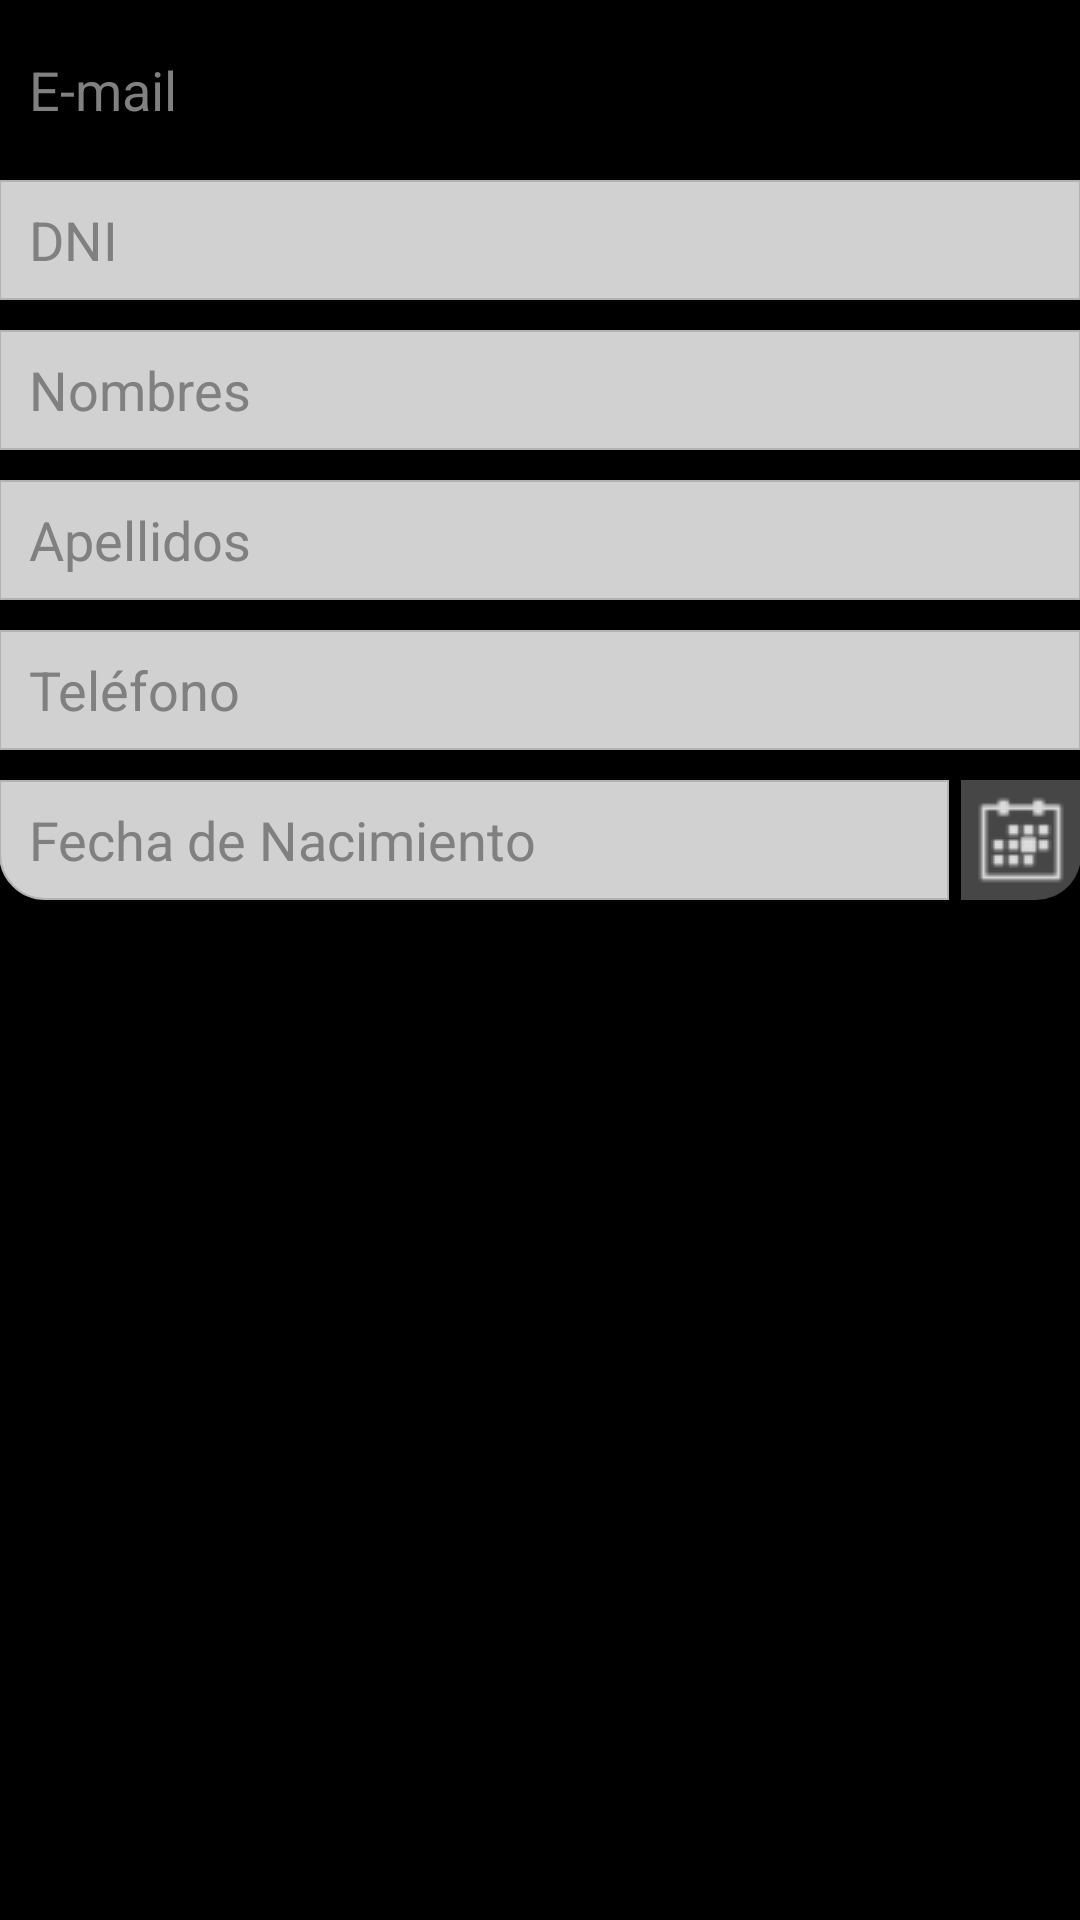

Screen size 1080px x 1920px. Icon name, then its center in pixels as (x,y):
Seleccionar Mes: (1020,840)
